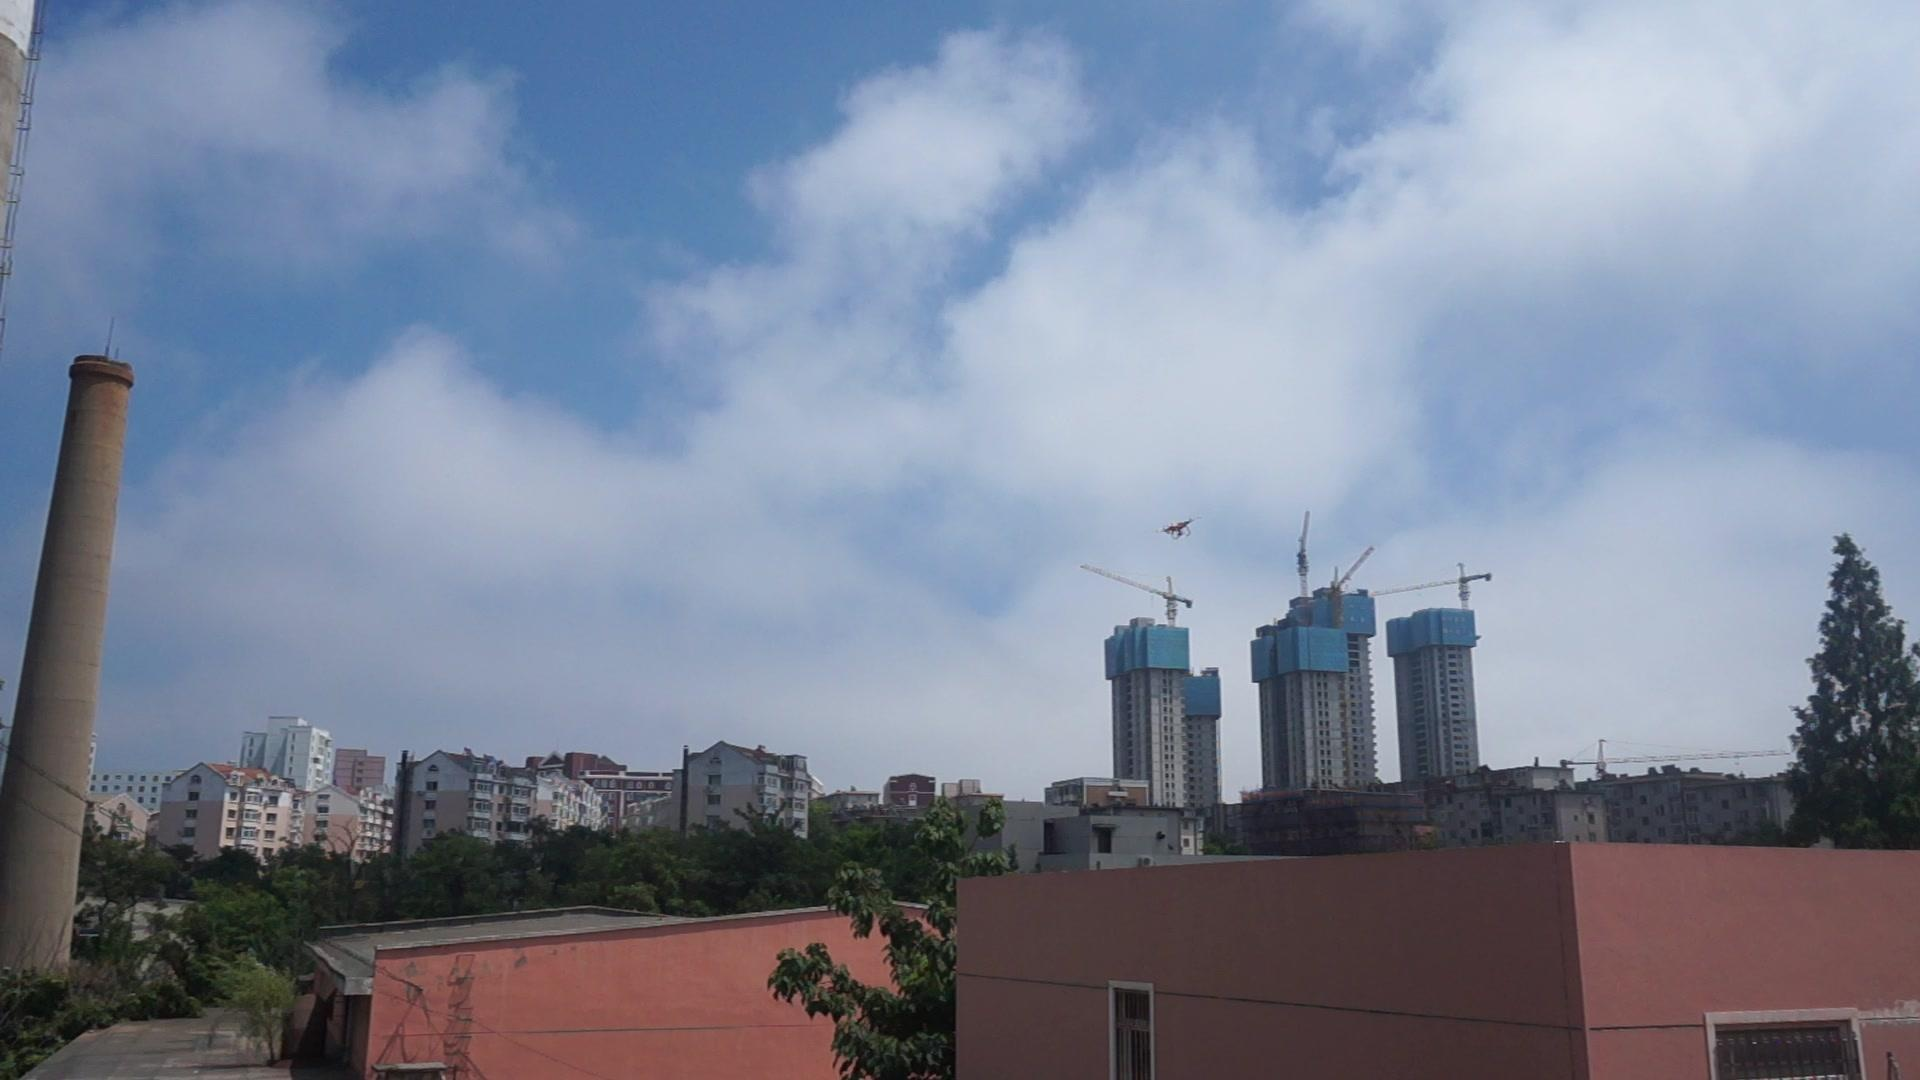UAV: (1155, 516, 1203, 541)
